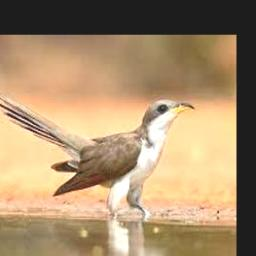Cuckoo: (0, 91, 195, 214)
